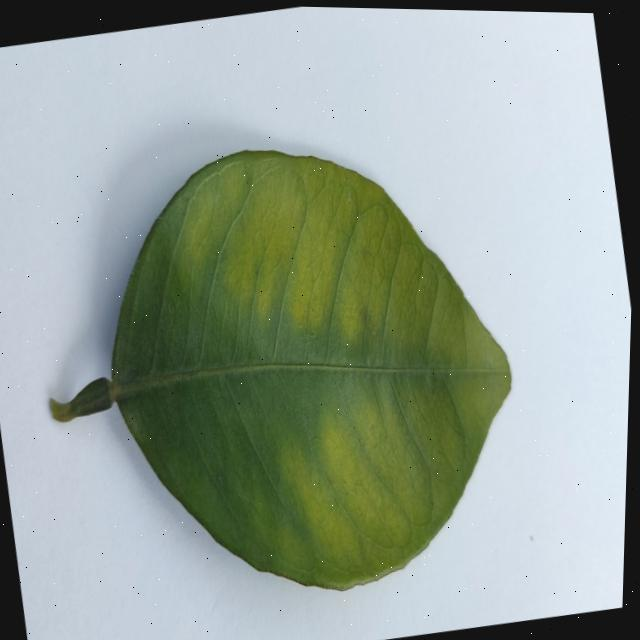greening: (51, 151, 510, 586)
